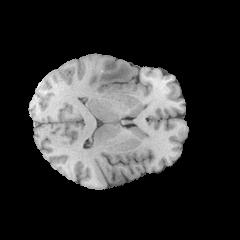glioma: (88, 59, 136, 116)
